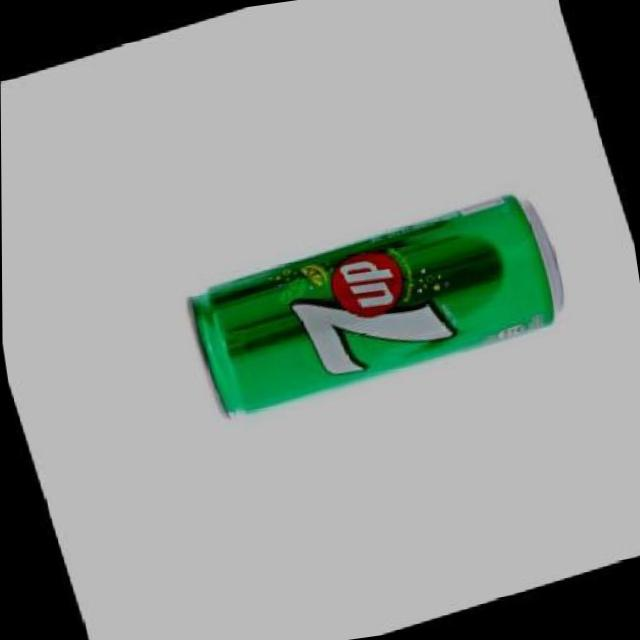metal: (189, 196, 561, 413)
